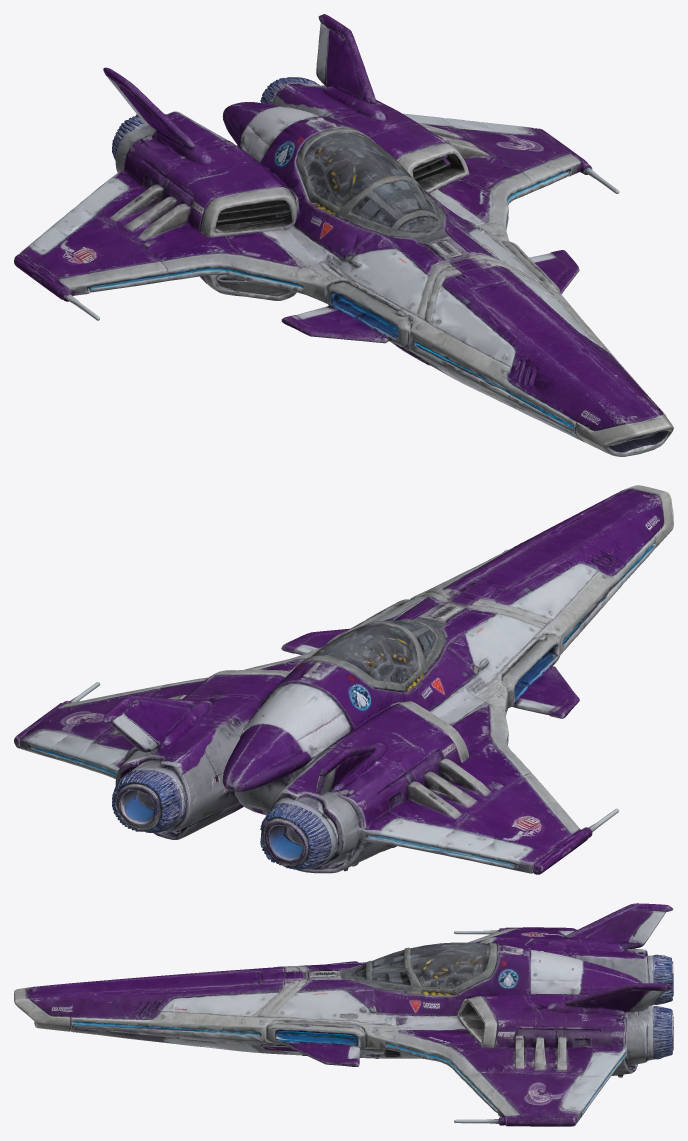
Rendered from ship-04.glb.
3 views of the same model, one above another, from view 1: azimuth 30°, elevation 25°; view 2: azimuth 150°, elevation 25°; view 3: azimuth 270°, elevation 25° (orthographic). The views are drawn at different scales.
Visible parts, largest first — view 1: ship; view 2: ship; view 3: ship.
Boxes of the visible parts, x1,y1,x2,y2 form: ship: (14,14,673,456); ship: (14,485,673,874); ship: (14,903,673,1126).
Bounding box in the file's own units: 2.08 × 0.5544 × 3.
Materials: 1 (1 with a texture image).
